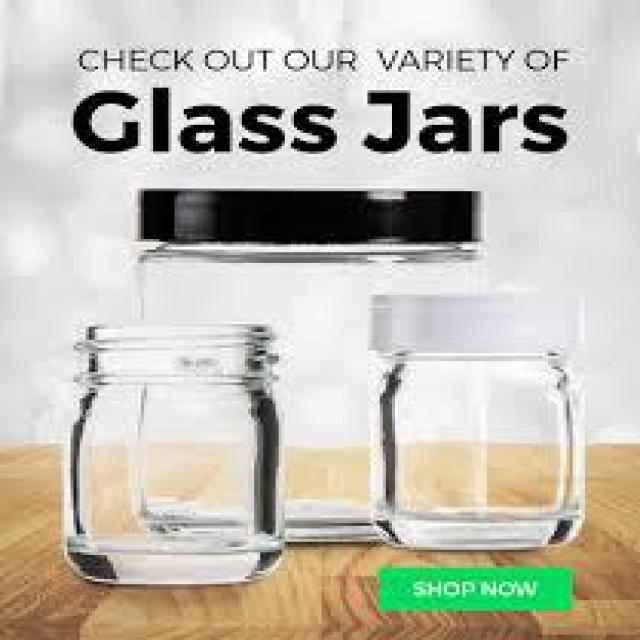non-organic waste: (56, 315, 292, 591), (366, 288, 592, 551)
